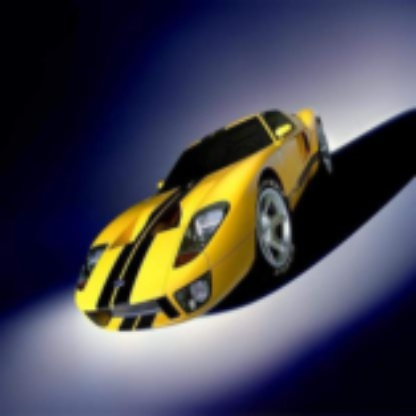Vehicle: (74, 105, 332, 334)
